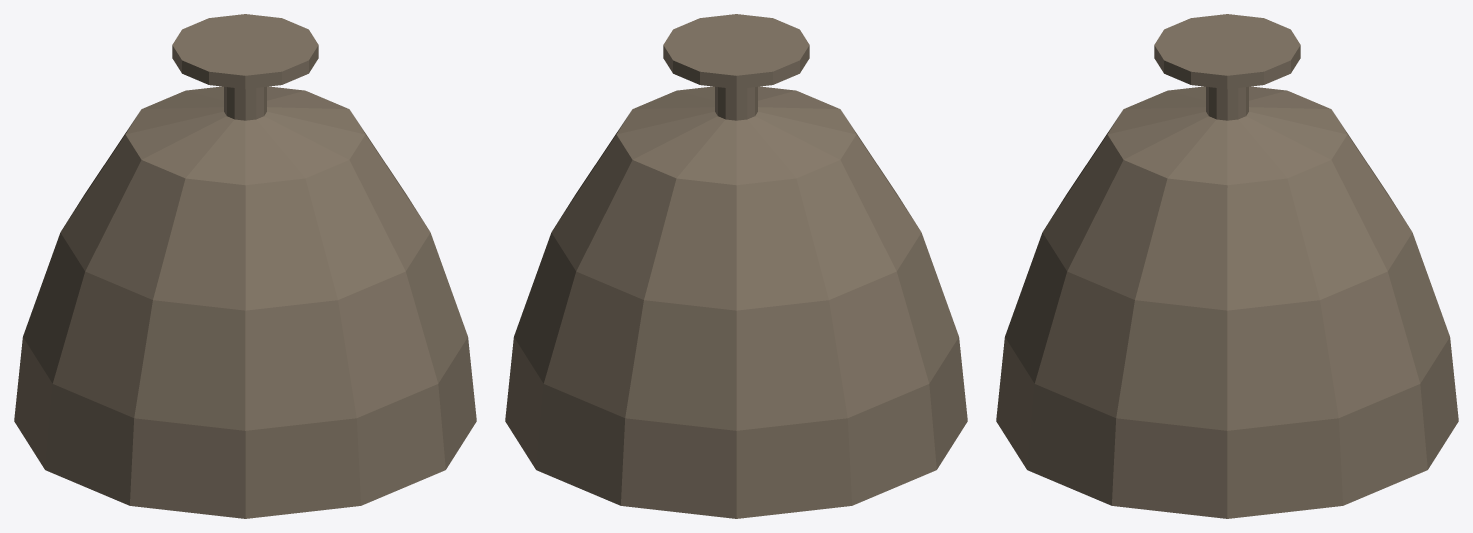
The model's file is sicbo_cup.glb.
3 views of the same model, side by side, from view 1: azimuth 30°, elevation 25°; view 2: azimuth 150°, elevation 25°; view 3: azimuth 270°, elevation 25° (orthographic).
Parts seen in each view (by area): view 1: Cylinder; view 2: Cylinder; view 3: Cylinder.
Part boxes in pixels (box(x1,y1,x2,y2)): Cylinder: box(14, 14, 476, 518); Cylinder: box(505, 14, 967, 518); Cylinder: box(996, 14, 1458, 518).
Bounding box in the file's own units: 2 × 1.79 × 2.
Materials: 1 (1 with a texture image).
